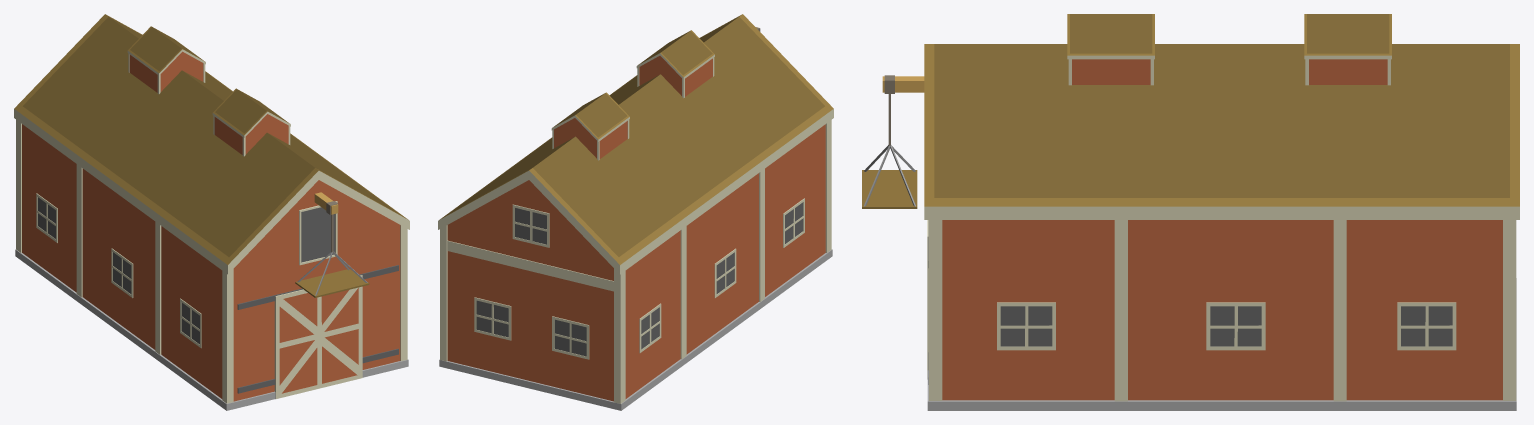
Rendered from houses.fbx.
3 renders of one model, left to right at view 1: azimuth 30°, elevation 25°; view 2: azimuth 150°, elevation 25°; view 3: azimuth 270°, elevation 25°, orthographic. The views are drawn at different scales.
Parts seen in each view (by area): view 1: Cube_1; view 2: Cube_1; view 3: Cube_1.
Part boxes in pixels (x1,y1,x2,y2): Cube_1: (14, 14, 409, 410); Cube_1: (438, 14, 833, 410); Cube_1: (862, 14, 1519, 410).
Size of the model in its own units: 618 by 781 by 1389.
